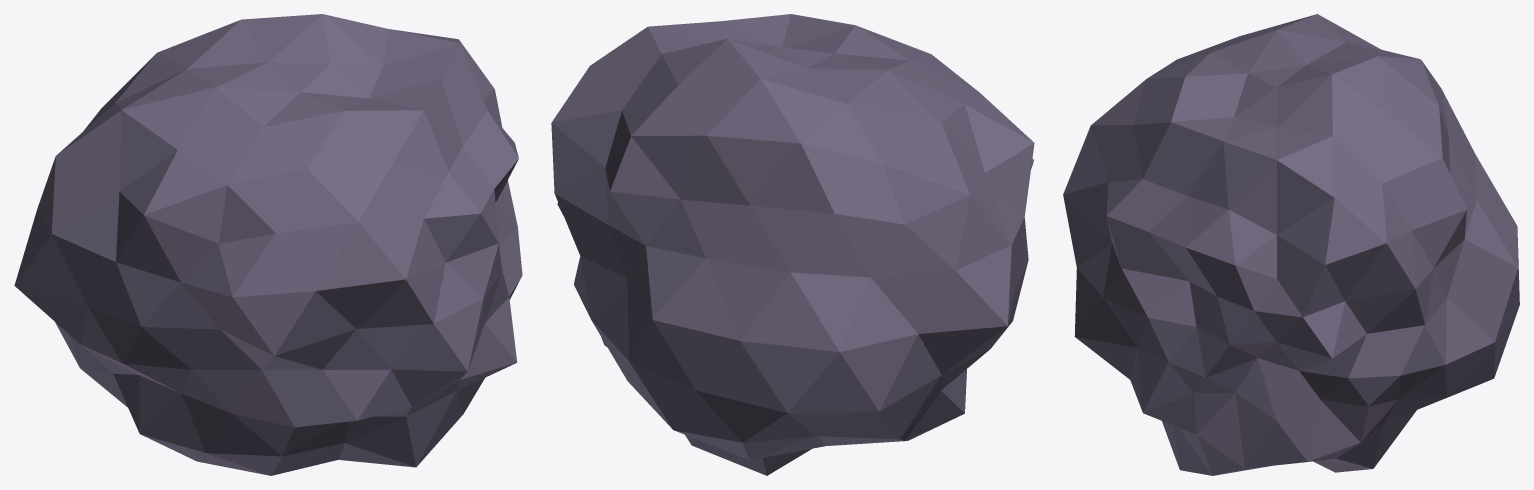
File: SM_Asteroid_02.fbx
3 views of the same model, side by side, from view 1: azimuth 30°, elevation 25°; view 2: azimuth 150°, elevation 25°; view 3: azimuth 270°, elevation 25° (orthographic). The views are drawn at different scales.
Parts seen in each view (by area): view 1: SM_Asteroid_02; view 2: SM_Asteroid_02; view 3: SM_Asteroid_02.
Part boxes in pixels (x1,y1,x2,y2): SM_Asteroid_02: [14, 14, 522, 475]; SM_Asteroid_02: [551, 14, 1034, 475]; SM_Asteroid_02: [1063, 14, 1519, 475].
Size of the model in its own units: 1 by 0.8796 by 0.8713.
